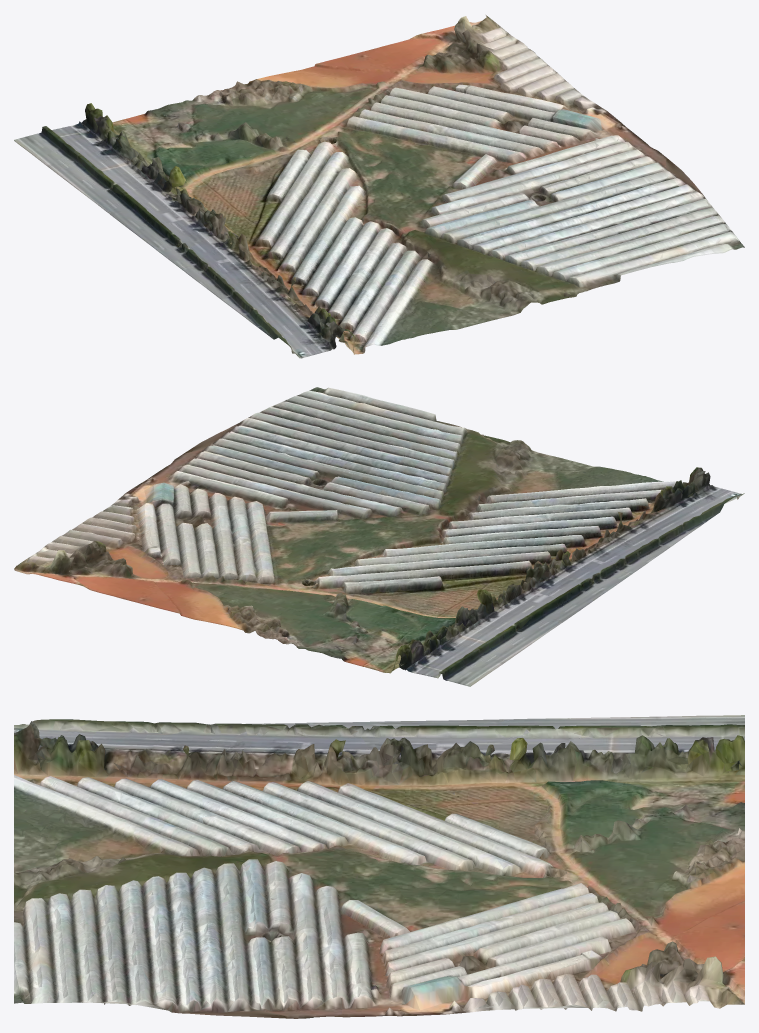
File: BlockBY_L17_39.glb
The picture shows the model from 3 angles, top to bottom: view 1: azimuth 30°, elevation 25°; view 2: azimuth 150°, elevation 25°; view 3: azimuth 270°, elevation 25°; orthographic projection. The views are drawn at different scales.
Visible parts, largest first — view 1: rtc; view 2: rtc; view 3: rtc.
Boxes of the visible parts, bbox=[...] form: rtc: bbox=[14, 15, 744, 358]; rtc: bbox=[14, 387, 744, 686]; rtc: bbox=[14, 715, 744, 1018].
Size of the model in its own units: 160 by 14.74 by 165.
5 materials, 5 textured.
